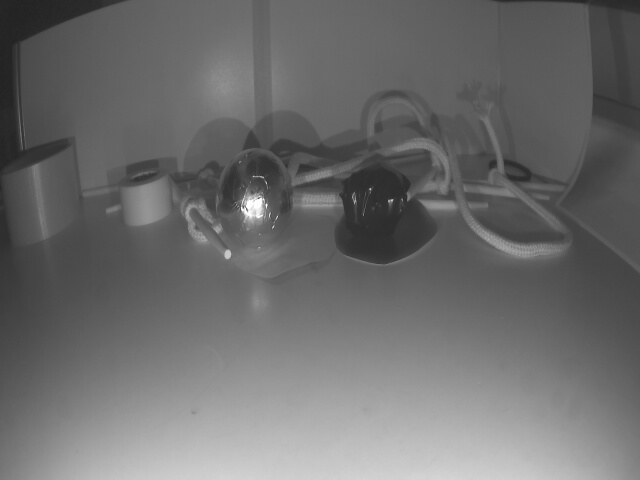Dead: (344, 169, 403, 237)
Live: (217, 155, 294, 250)
